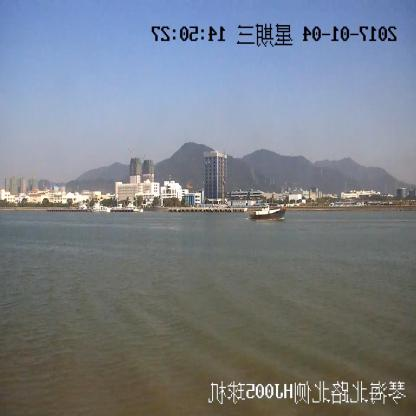Fishing Boat: (250, 206, 286, 220)
